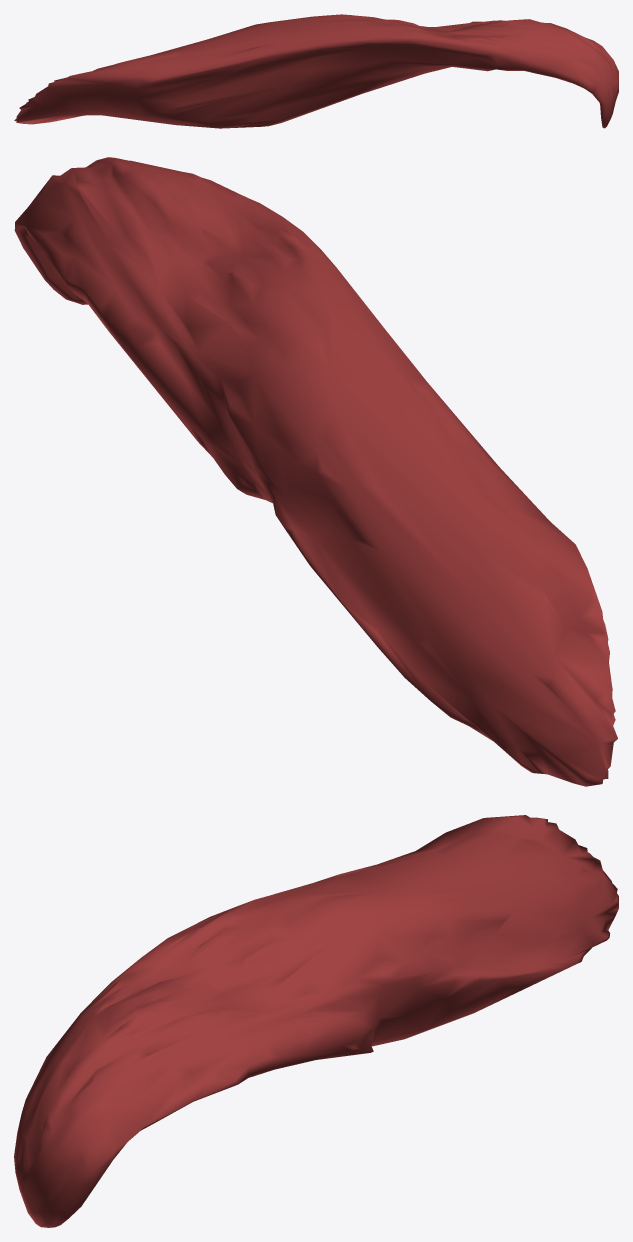
The model's file is supraspinatus-muscle-l.glb.
3 views of the same model, one above another, from view 1: azimuth 30°, elevation 25°; view 2: azimuth 150°, elevation 25°; view 3: azimuth 270°, elevation 25° (orthographic). The views are drawn at different scales.
Visible parts, largest first — view 1: Supraspinatus muscle.l; view 2: Supraspinatus muscle.l; view 3: Supraspinatus muscle.l.
Boxes of the visible parts, <box> form: Supraspinatus muscle.l: <box>14,14,618,128</box>; Supraspinatus muscle.l: <box>14,157,617,786</box>; Supraspinatus muscle.l: <box>14,815,618,1227</box>.
Bounding box in the file's own units: 0.1251 × 0.0328 × 0.0848.
